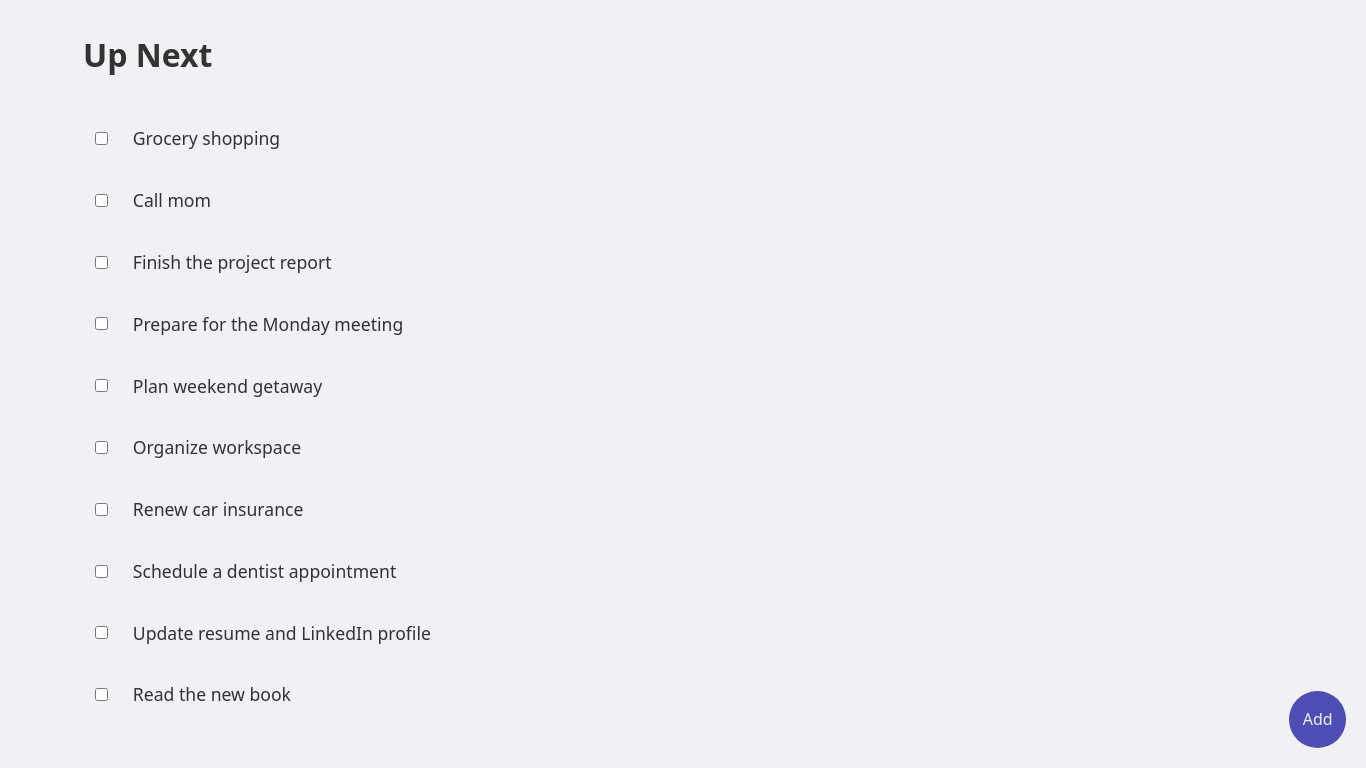
Test: should handle archive
This screenshot has width=1366, height=768.
Click the list item "Grocery shopping" at point(188, 138), box [95,126,280,150]
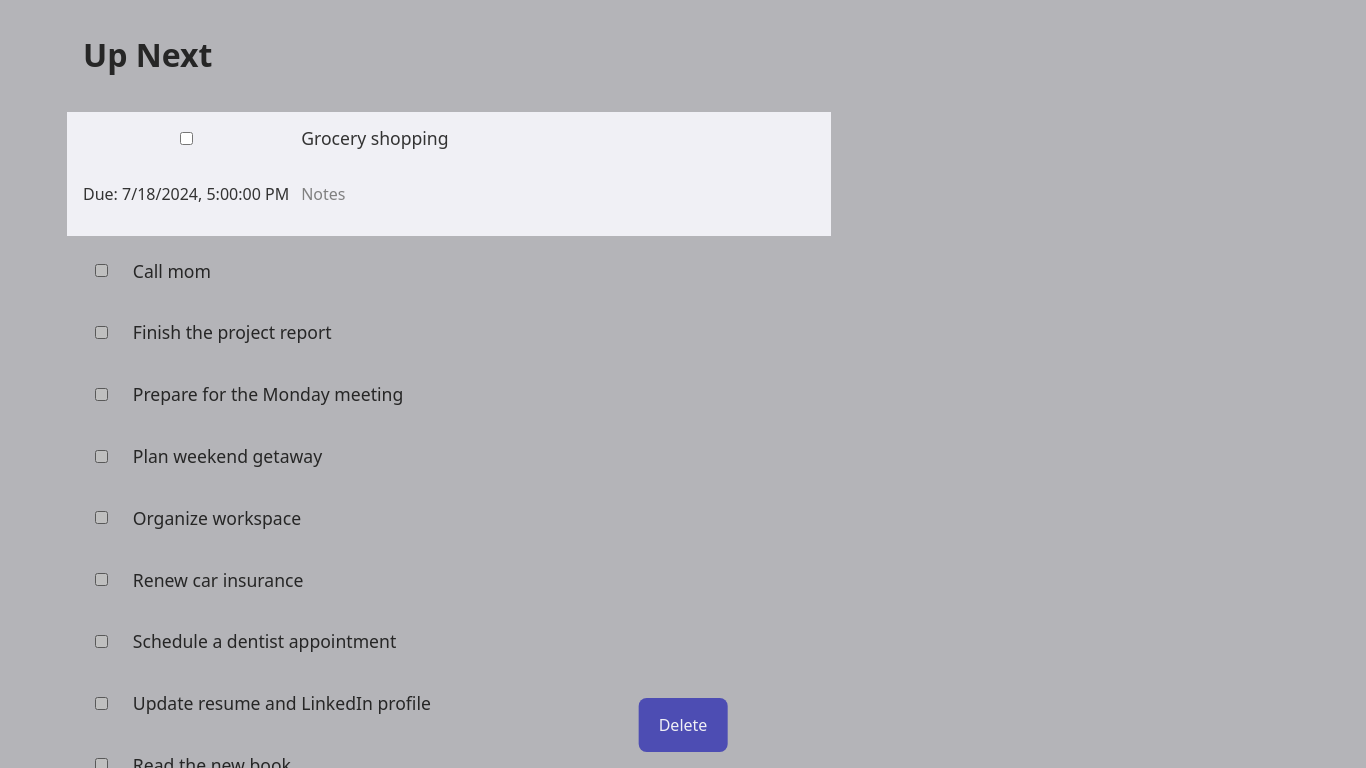
Click the button "Delete" at point(683, 725), box [655,706,711,744]
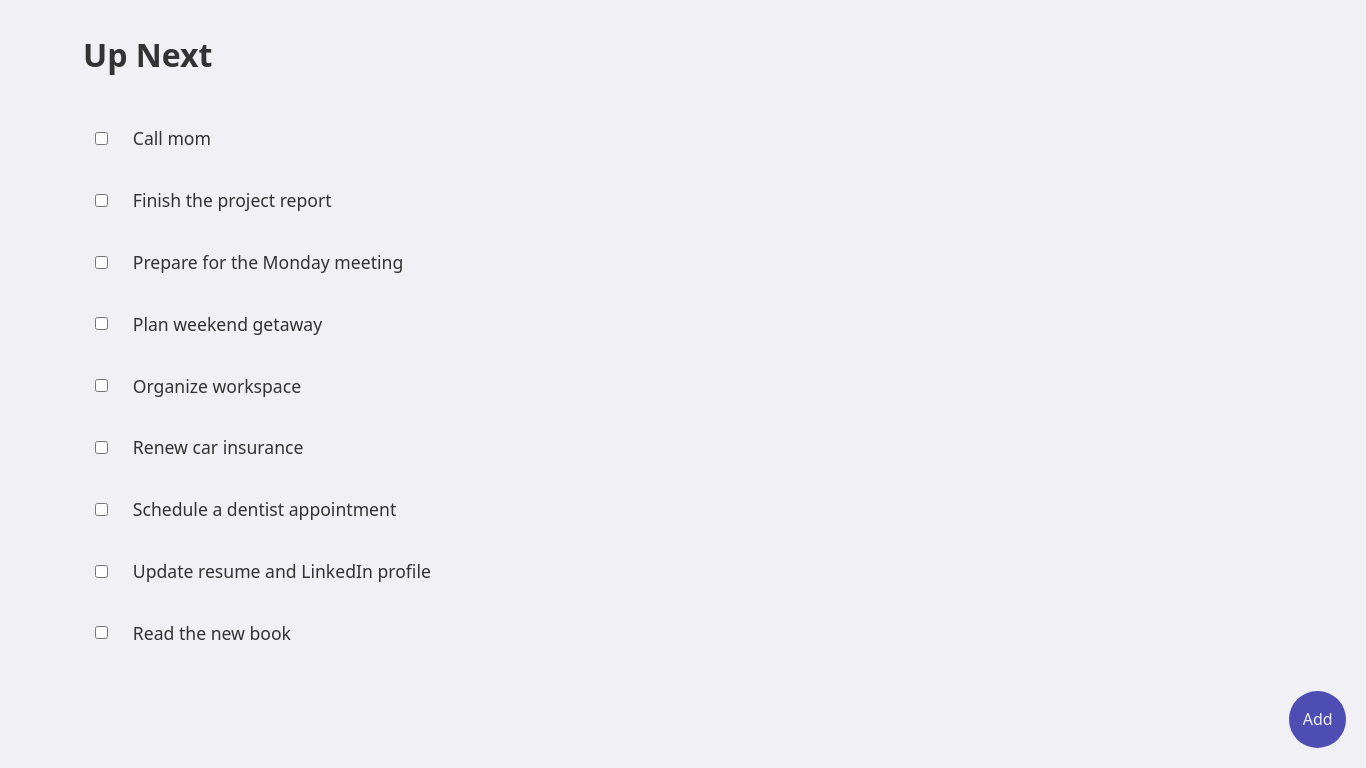
Check: the list item "Due: 7/18/2024, 5:00:00 PM" is gone
